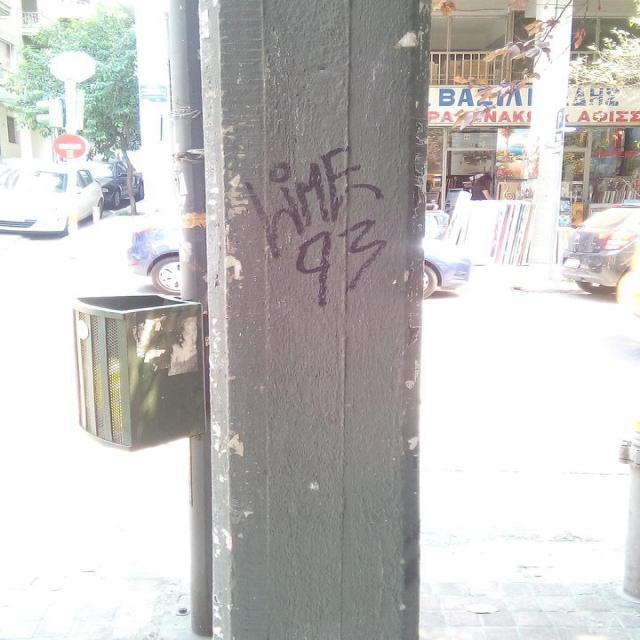nonspitting: (247, 148, 383, 306)
